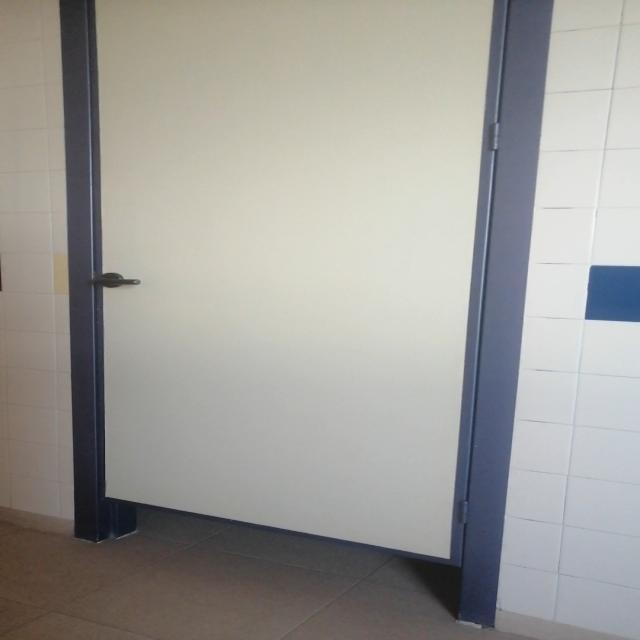door_handle: (88, 277, 144, 287)
